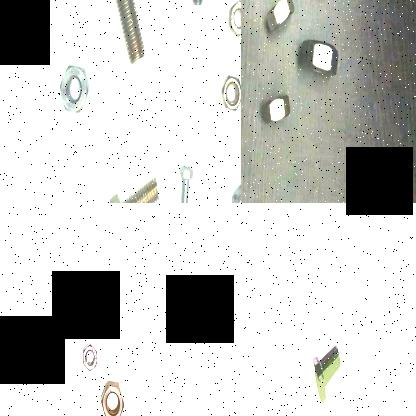Bolts: (103, 0, 150, 65), (105, 174, 160, 203), (169, 157, 199, 203), (308, 344, 340, 385), (226, 179, 241, 203)
NUTS: (52, 38, 96, 122), (299, 35, 345, 80), (215, 68, 241, 121), (13, 318, 41, 364), (260, 90, 292, 126), (264, 0, 297, 33), (99, 379, 128, 416), (3, 0, 31, 35), (220, 0, 241, 42), (79, 338, 101, 376)
